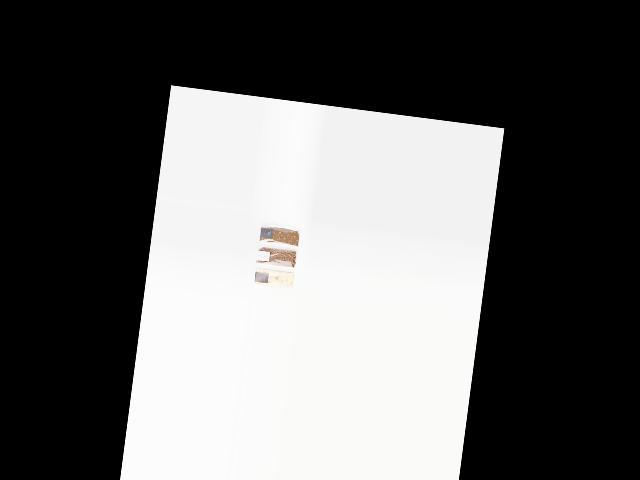chocolate: (259, 219, 304, 248)
